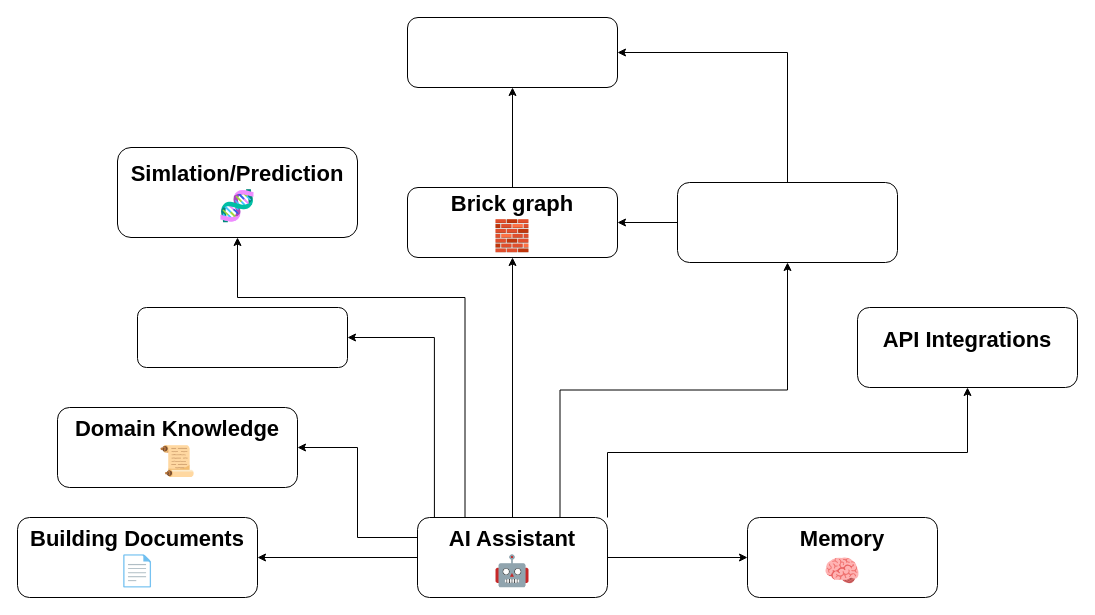
Image size: 1095x615. Some labels were removed from this diagram. The shapes that lost their labels are listed below. From the top down, each one's centre as x and y in pixels, then its label:
pixel 512 52: Time series data 📈
pixel 787 222: FDD 🧐
pixel 242 337: CObie graph
